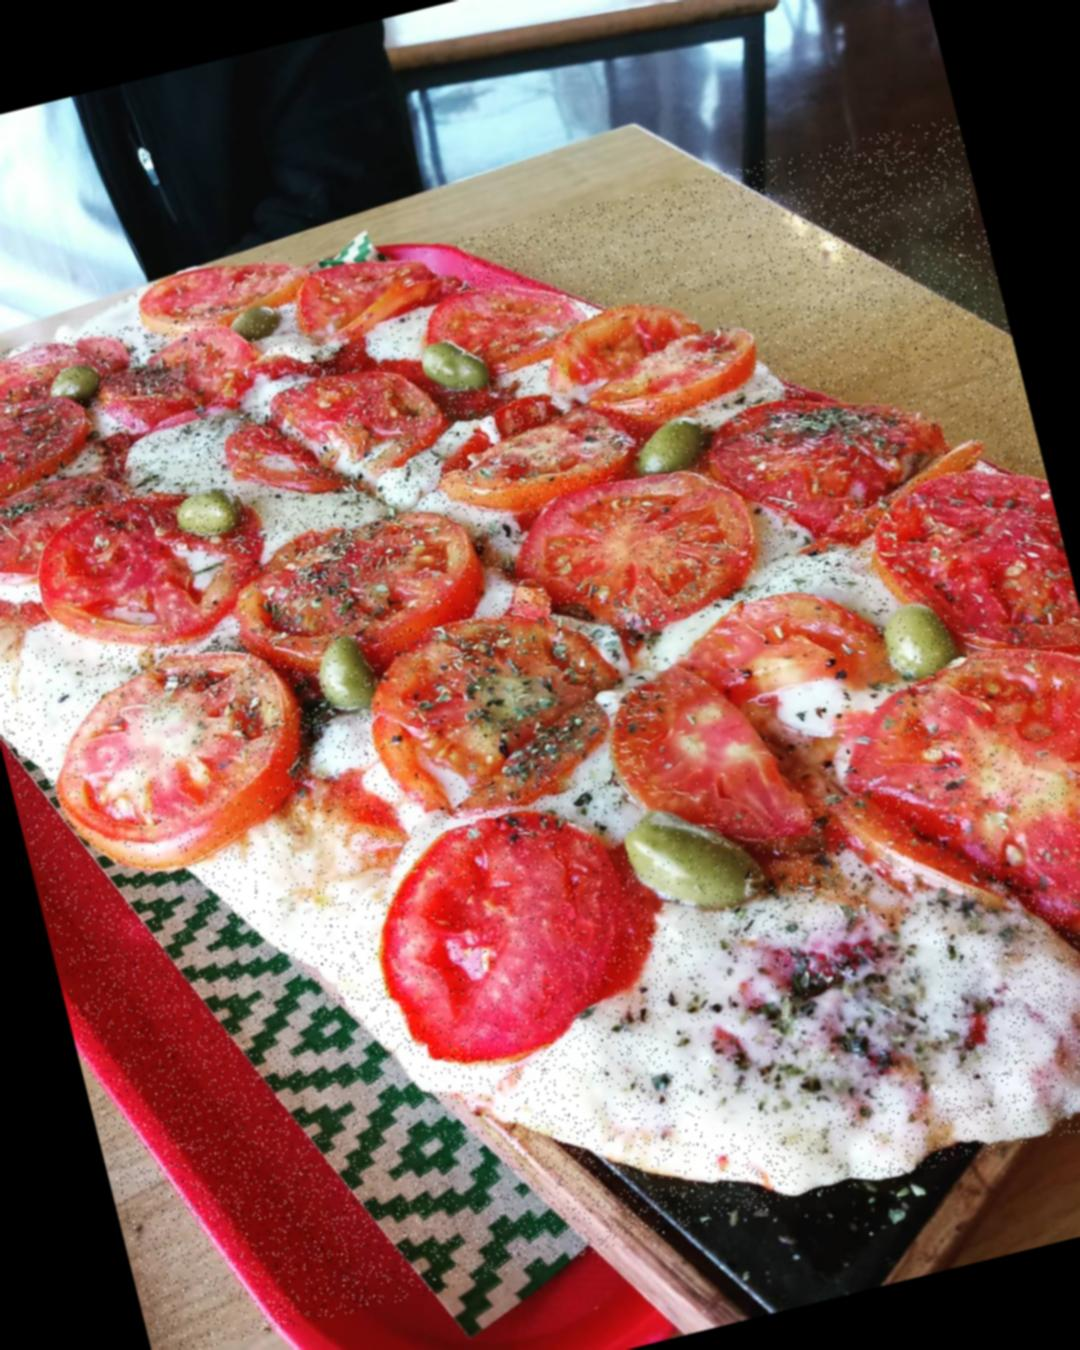Cheese: (668, 908, 962, 1138), (238, 821, 372, 953), (0, 637, 87, 728)
Olives: (627, 797, 773, 926), (866, 596, 958, 687), (310, 627, 380, 723), (631, 407, 716, 483), (418, 330, 493, 403), (168, 478, 249, 543), (44, 358, 115, 410), (225, 296, 290, 346)
Pizza: (0, 112, 1080, 1350)
Tomatoes: (581, 575, 915, 851), (356, 791, 665, 1072), (821, 644, 1080, 951), (33, 633, 324, 888), (363, 595, 641, 824), (702, 354, 998, 537), (510, 450, 767, 639), (868, 462, 1080, 685), (226, 499, 494, 668), (29, 478, 270, 662), (222, 350, 469, 515), (548, 282, 765, 426), (438, 406, 640, 516), (0, 474, 148, 605), (298, 238, 473, 343), (425, 272, 585, 381), (134, 248, 312, 334), (0, 320, 140, 422), (141, 320, 274, 423), (0, 393, 104, 519)
